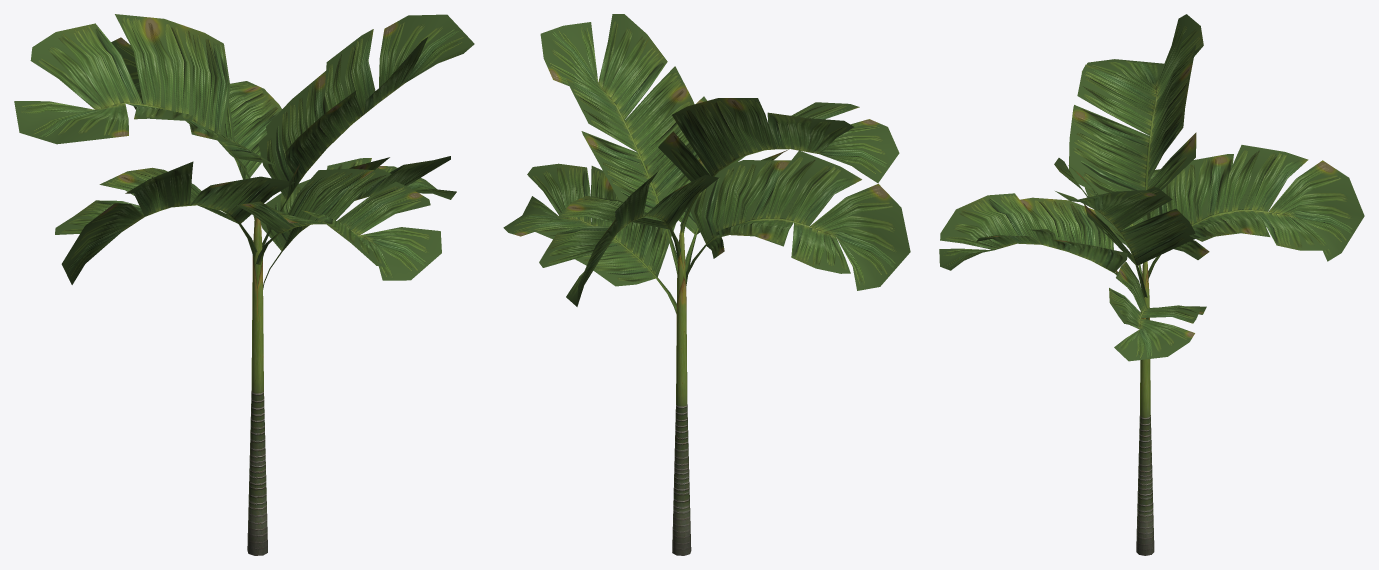
Rendered from Arcea_palm2.fbx.
3 views of the same model, side by side, from view 1: azimuth 30°, elevation 25°; view 2: azimuth 150°, elevation 25°; view 3: azimuth 270°, elevation 25° (orthographic). The views are drawn at different scales.
Visible parts, largest first — view 1: polySurface127; view 2: polySurface127; view 3: polySurface127.
Boxes of the visible parts, x1,y1,x2,y2 form: polySurface127: (14,14,474,555); polySurface127: (503,14,910,555); polySurface127: (939,14,1364,555).
Size of the model in its own units: 7.57 by 9.6 by 8.02.
